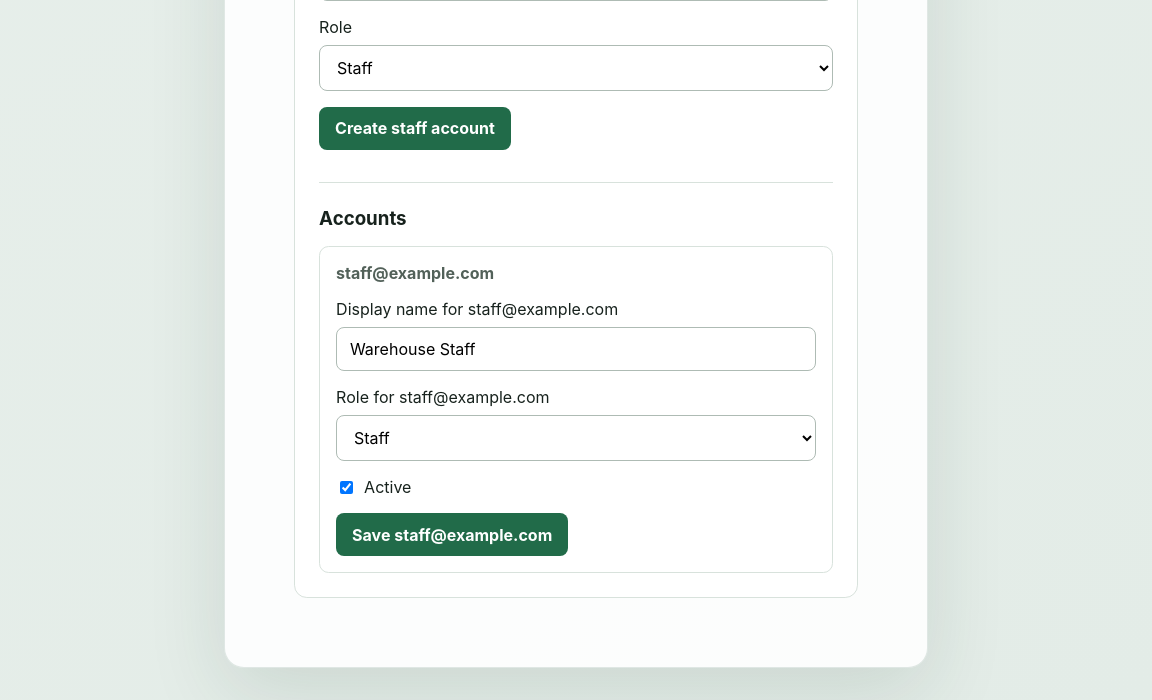
Scenario: staff management › keeps failed account changes marked as unsaved
The image size is (1152, 700).
(page scrolled)
Replace the text in the field labelled "Display name for staff@example.com" with "Changed locally" at [576, 349], box [336,327,816,371]
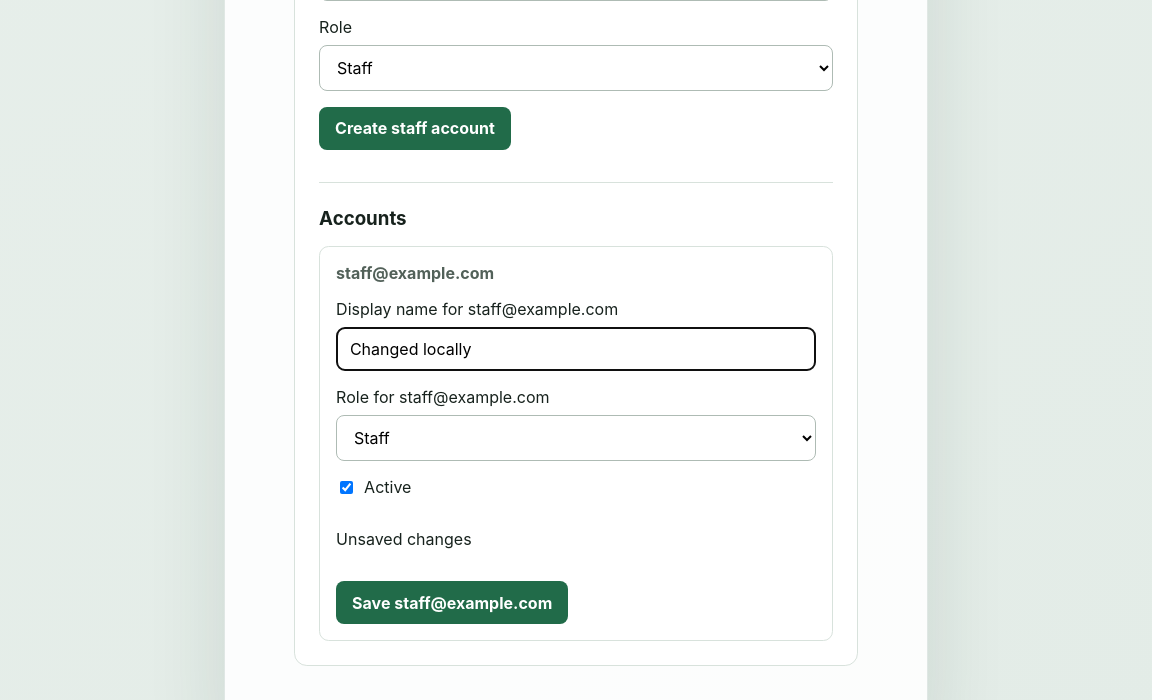
Result: the text "Unsaved changes" is shown at [336,529,472,549]
Click the button "Save staff@example.com" at [452, 603], box [336,581,568,624]
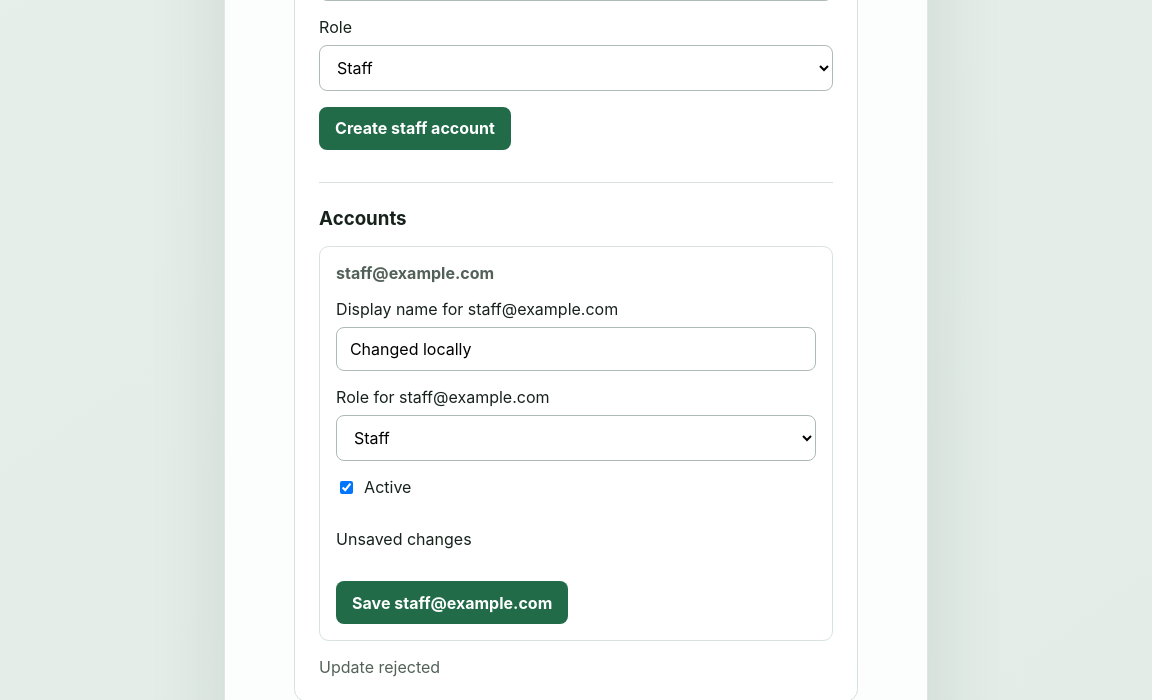
Result: the text "Unsaved changes" is shown at [336,529,472,549]
Result: the text "Update rejected" is shown at [319,657,440,677]
